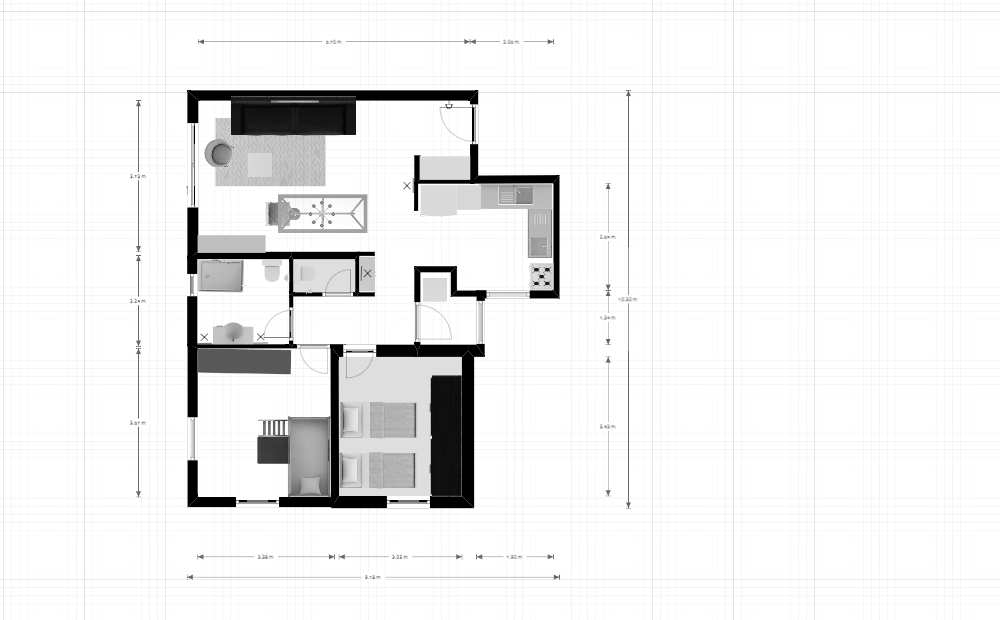door: (340, 343, 380, 381), (258, 305, 298, 343), (294, 338, 334, 376), (322, 266, 362, 304), (415, 305, 455, 343), (438, 106, 478, 144), (186, 460, 198, 504)
wall: (188, 90, 480, 99), (461, 345, 473, 509), (472, 176, 560, 183), (188, 208, 197, 273)
window: (182, 117, 200, 222), (380, 493, 436, 511), (234, 495, 288, 512)
